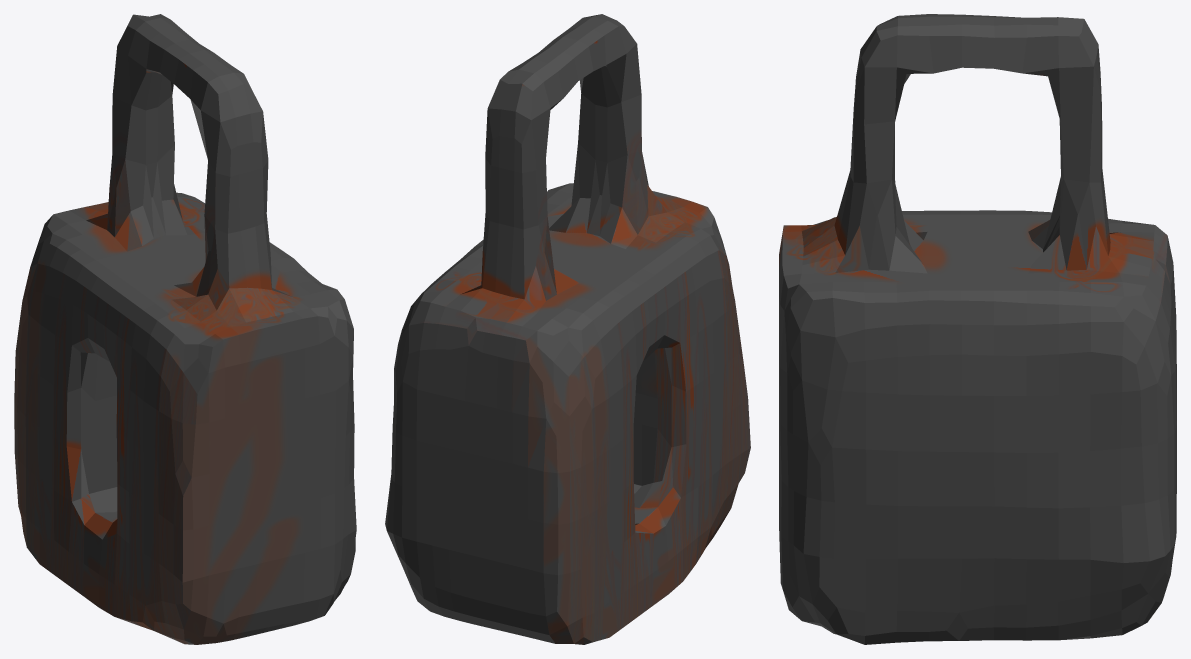
The model's file is padlock.glb.
3 views of the same model, side by side, from view 1: azimuth 30°, elevation 25°; view 2: azimuth 150°, elevation 25°; view 3: azimuth 270°, elevation 25° (orthographic). The views are drawn at different scales.
Visible parts, largest first — view 1: Cube.001; view 2: Cube.001; view 3: Cube.001.
Boxes of the visible parts, x1=… form: Cube.001: x1=14, y1=14, x2=356, y2=644; Cube.001: x1=385, y1=14, x2=750, y2=644; Cube.001: x1=779, y1=14, x2=1176, y2=644.
Size of the model in its own units: 0.6699 by 1.67 by 1.03.
Materials: 1 (1 with a texture image).
